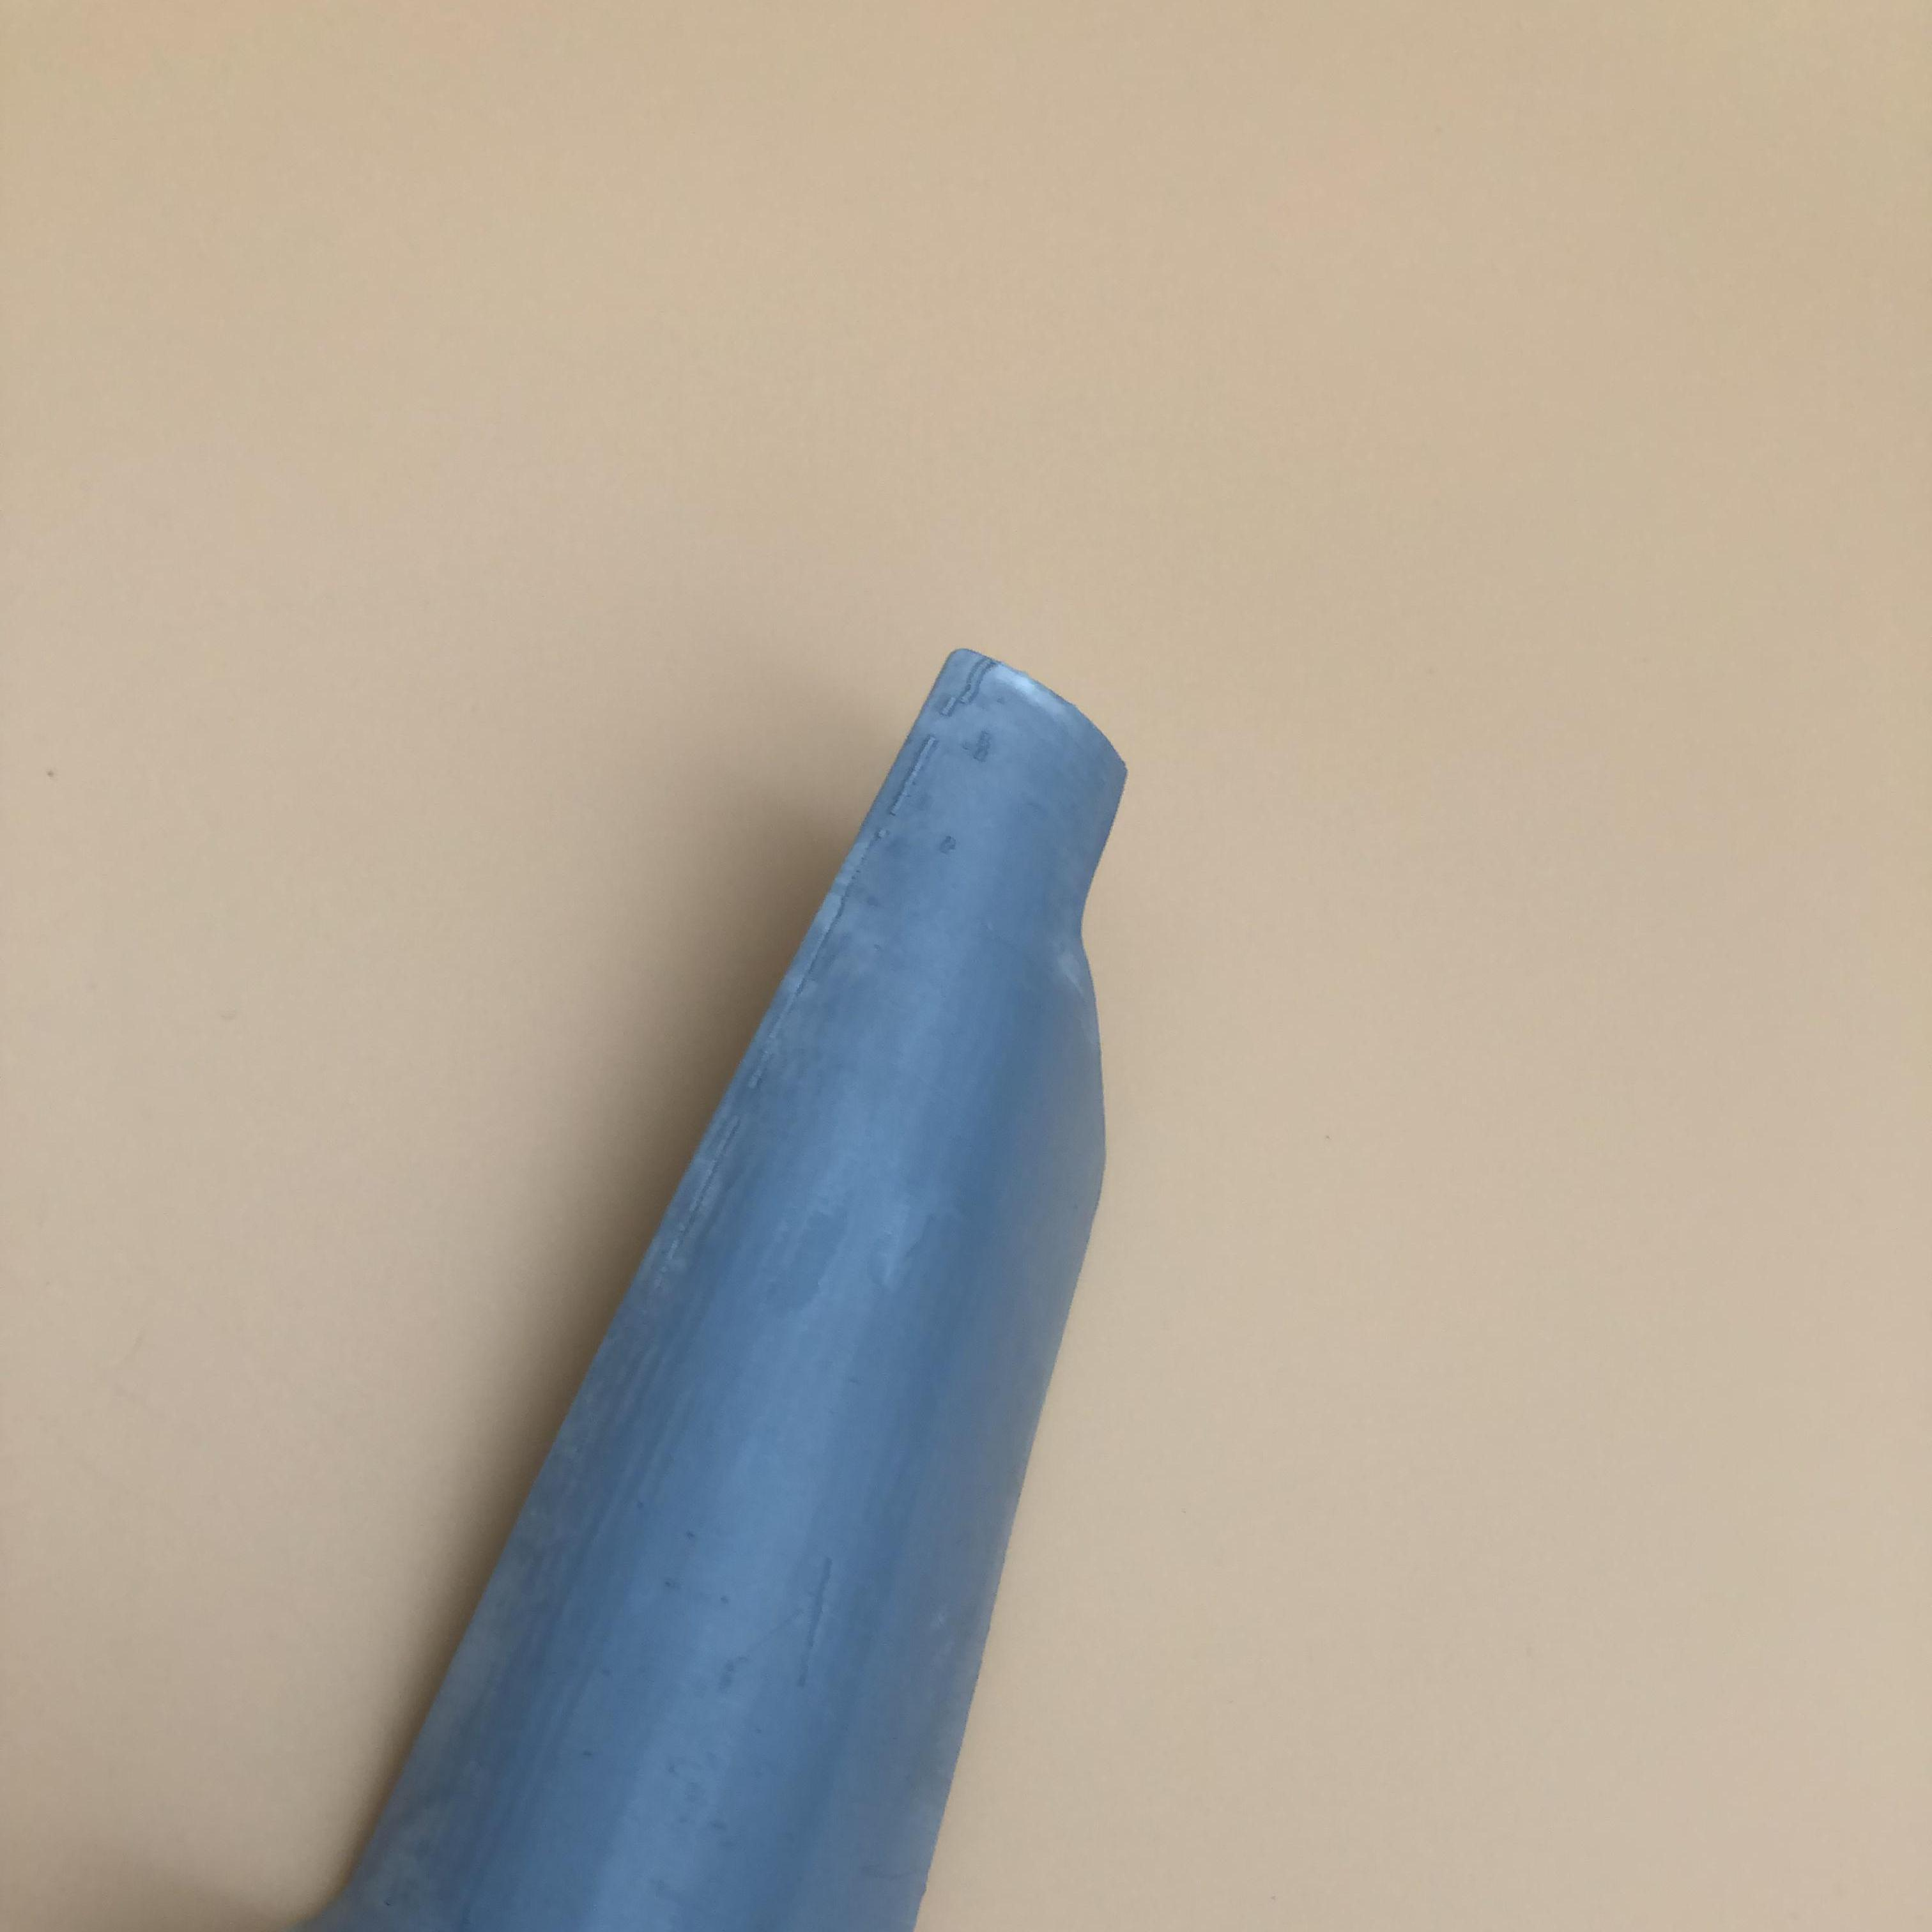fracture: (1074, 775, 1139, 1180)
